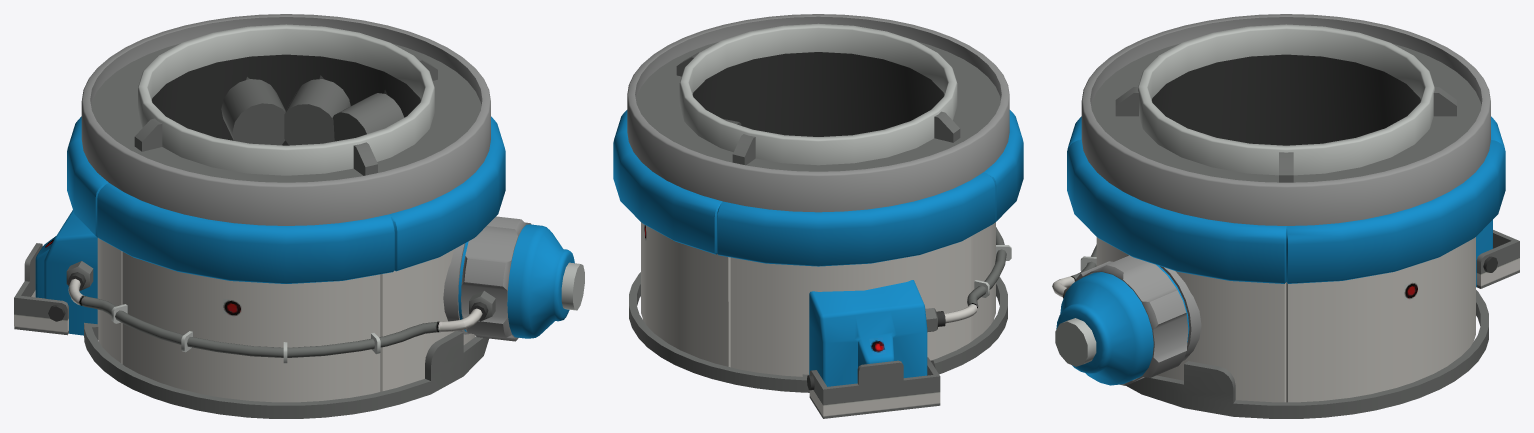
Rendered from gel_blue.glb.
3 views of the same model, side by side, from view 1: azimuth 30°, elevation 25°; view 2: azimuth 150°, elevation 25°; view 3: azimuth 270°, elevation 25° (orthographic). The views are drawn at different scales.
Visible parts, largest first — view 1: EDITOR_paint_dropper.004; view 2: EDITOR_paint_dropper.004; view 3: EDITOR_paint_dropper.004.
Part boxes in pixels (left/top/right/bottom): EDITOR_paint_dropper.004: left=14, top=14, right=584, bottom=418; EDITOR_paint_dropper.004: left=613, top=14, right=1023, bottom=418; EDITOR_paint_dropper.004: left=1052, top=14, right=1519, bottom=418.
Bounding box in the file's own units: 1.52 × 0.894 × 1.54.
1 material, 1 textured.
